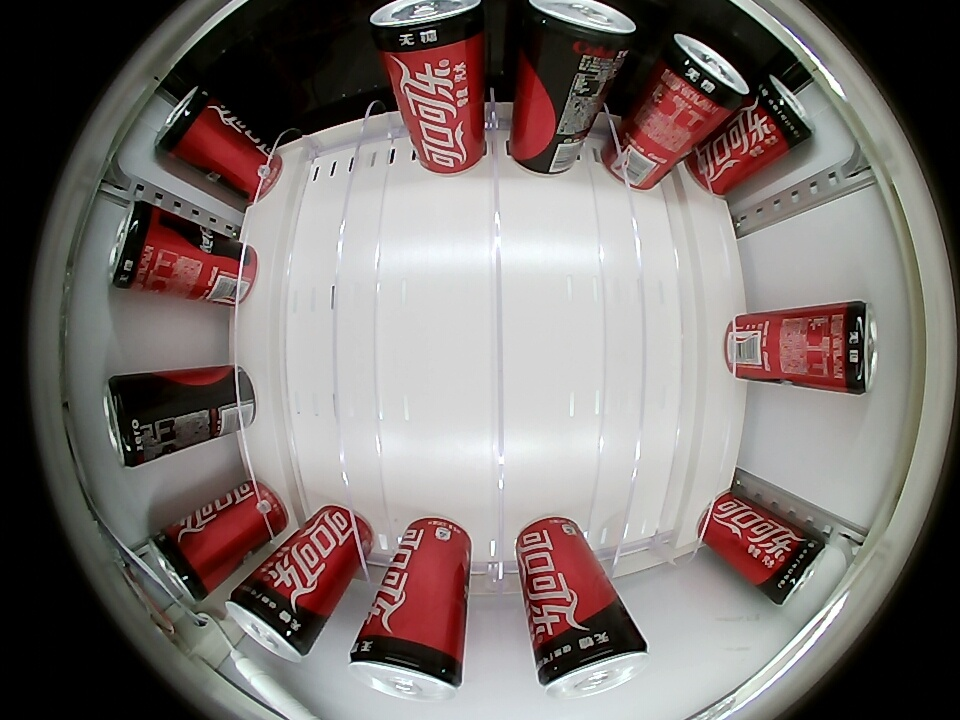lingdukele: (536, 618, 650, 699), (227, 573, 325, 662), (349, 627, 463, 702), (516, 0, 638, 69), (653, 33, 749, 120), (371, 0, 486, 64), (105, 373, 170, 468), (110, 200, 177, 292), (756, 523, 829, 605), (819, 300, 877, 395), (155, 85, 221, 168), (749, 73, 814, 152), (148, 525, 212, 604)
